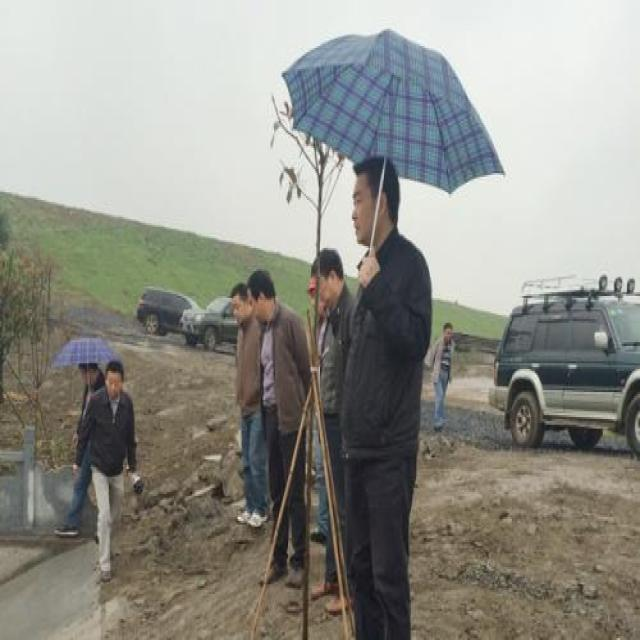no-helmet: (347, 138, 395, 254), (311, 240, 347, 317), (246, 267, 282, 331), (101, 358, 126, 406), (228, 282, 250, 328), (75, 356, 98, 386), (442, 317, 456, 342)
